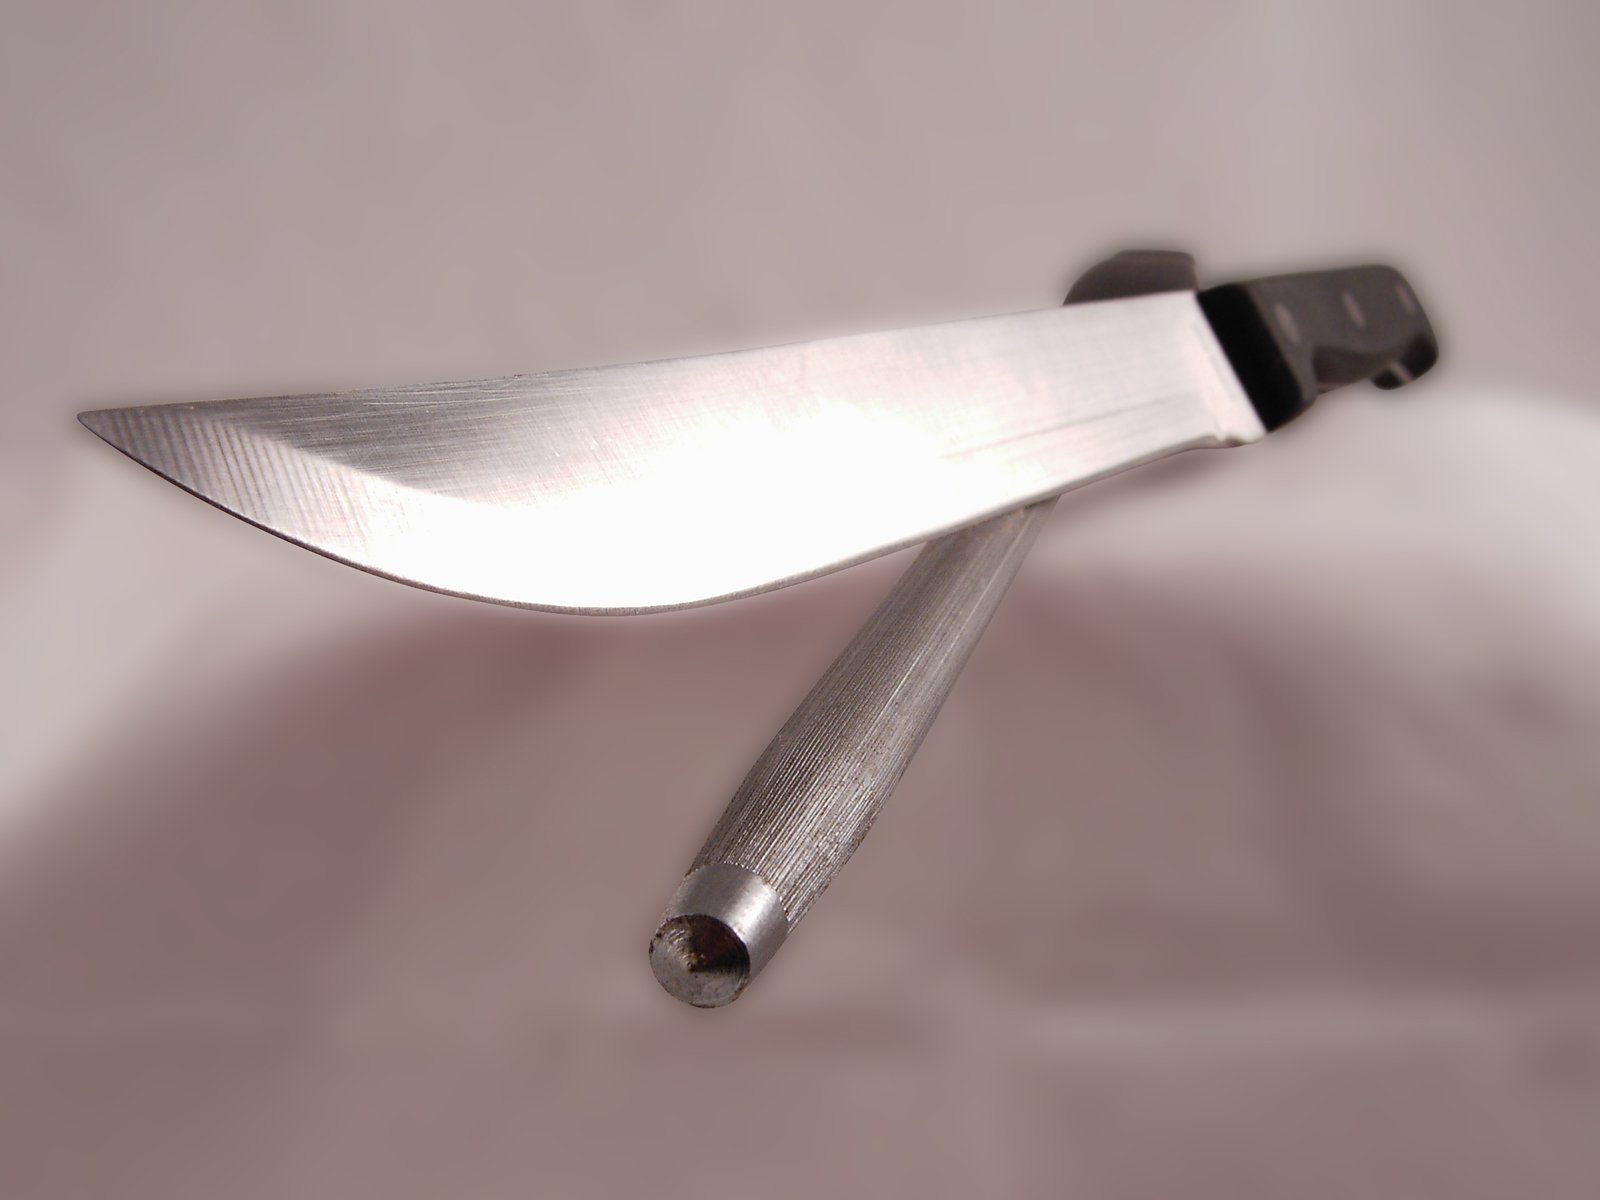knife: (69, 251, 1443, 614)
